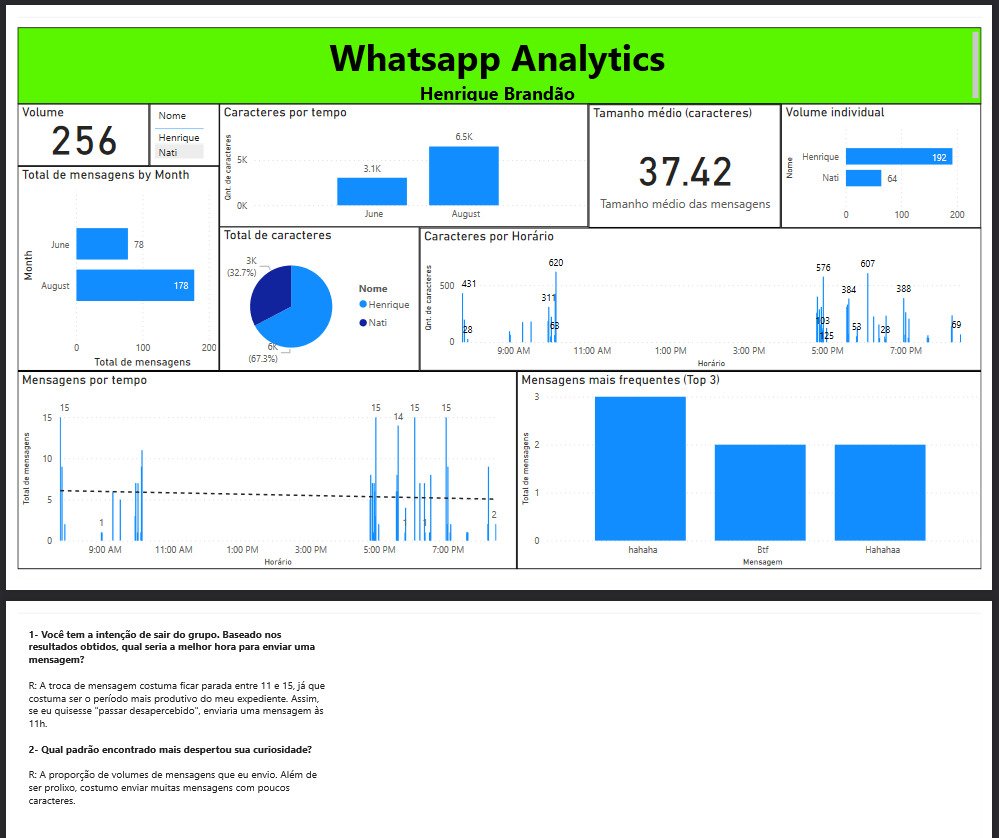

The dashboard page shown, as its layout file describes it:
{"tool":"powerbi","page":{"name":"viz","canvas":[1280,720],"ordinal":0},"visuals":[{"type":"textbox","box":[0,0,1280,101.6],"z":0},{"type":"card","title":"Volume","fields":{"Values":["chat.Measure"]},"box":[0,101.5,175.3,82.8],"z":1000},{"type":"clusteredBarChart","title":"Volume individual","fields":{"Y":["chat.total mensagens"],"Category":["chat.nome"]},"box":[1013.7,101.5,266.1,164.6],"z":2000},{"type":"clusteredColumnChart","title":"Mensagens por tempo","fields":{"Y":["chat.total mensagens"],"Category":["chat.horário"]},"box":[0,456.6,663,263.4],"z":3000},{"type":"barChart","fields":{"Category":["chat.data.Variation.Date Hierarchy.Month","chat.data.Variation.Date Hierarchy.Day"],"Y":["chat.Total de mensagens"]},"box":[0,184.2,267.9,272.3],"z":4000},{"type":"clusteredColumnChart","title":"Mensagens mais frequentes (Top 3)","fields":{"Y":["chat.total mensagens"],"Category":["chat.mensagem"]},"box":[663,456.6,616.8,263.4],"z":5000},{"type":"tableEx","fields":{"Values":["chat.Pessoa"]},"box":[175.3,101.5,92.6,82.8],"z":6000},{"type":"pieChart","title":"Total de caracteres","fields":{"Category":["chat.Nome"],"Y":["Sum(chat.Qnt. de daracteres)"]},"box":[267.9,264.3,266.1,192.2],"z":7000},{"type":"clusteredColumnChart","title":"Caracteres por Horário","fields":{"Y":["Sum(chat.Qnt. de daracteres)"],"Category":["chat.Horário"]},"box":[534,266.1,745.8,190.5],"z":8000},{"type":"clusteredColumnChart","title":"Caracteres por tempo","fields":{"Y":["Sum(chat.Qnt. de daracteres)"],"Category":["chat.Data.Variation.Date Hierarchy.Month","chat.Data.Variation.Date Hierarchy.Day"]},"box":[267.9,101.5,490.4,163.8],"z":9000},{"type":"card","title":"Tamanho médio (caracteres)","fields":{"Values":["chat.Tamanho médio das mensagens"]},"box":[758.3,102.3,255.4,163.8],"z":10000}]}

Visuals, with their boxes on the page's 1280x720 design canvas (x1, y1, x2, y2). These are canvas units, not pixel positions in the 999x838 screenshot, which may show the page scaled, cropped or inside an application window:
textbox: detection(0, 0, 1280, 102)
"Volume" card: detection(0, 102, 175, 184)
"Volume individual" clusteredBarChart: detection(1014, 102, 1280, 266)
"Mensagens por tempo" clusteredColumnChart: detection(0, 457, 663, 720)
barChart - chat.data.Variation.Date Hierarchy.Month x chat.data.Variation.Date Hierarchy.Day: detection(0, 184, 268, 456)
"Mensagens mais frequentes (Top 3)" clusteredColumnChart: detection(663, 457, 1280, 720)
tableEx - chat.Pessoa: detection(175, 102, 268, 184)
"Total de caracteres" pieChart: detection(268, 264, 534, 456)
"Caracteres por Horário" clusteredColumnChart: detection(534, 266, 1280, 457)
"Caracteres por tempo" clusteredColumnChart: detection(268, 102, 758, 265)
"Tamanho médio (caracteres)" card: detection(758, 102, 1014, 266)
